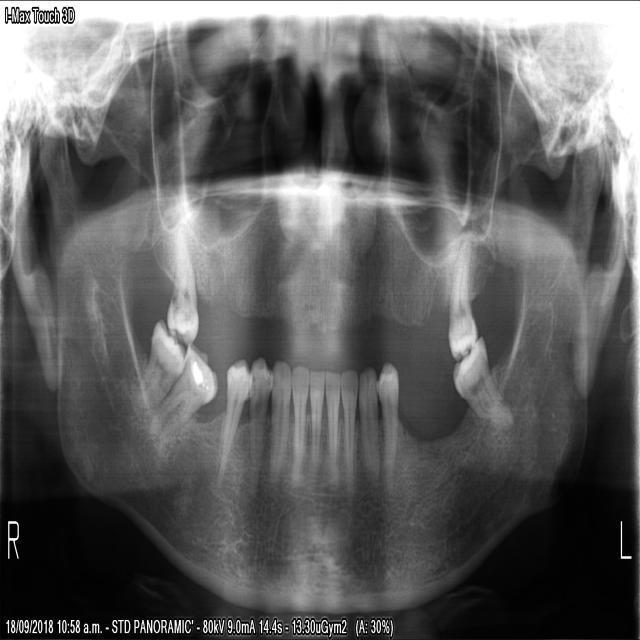LCD: (358, 364, 379, 492)
LID: (339, 367, 357, 490), (323, 367, 339, 474)
LMD: (450, 327, 514, 430)
LMU: (445, 236, 476, 359)
LPMD: (376, 359, 399, 498)
RCD: (269, 355, 289, 490)
RID: (287, 361, 307, 492), (308, 367, 323, 484)
RMD: (146, 340, 217, 449), (126, 312, 184, 416)
RMU: (164, 219, 198, 345)
RPMD: (206, 353, 245, 493), (245, 352, 269, 501)
